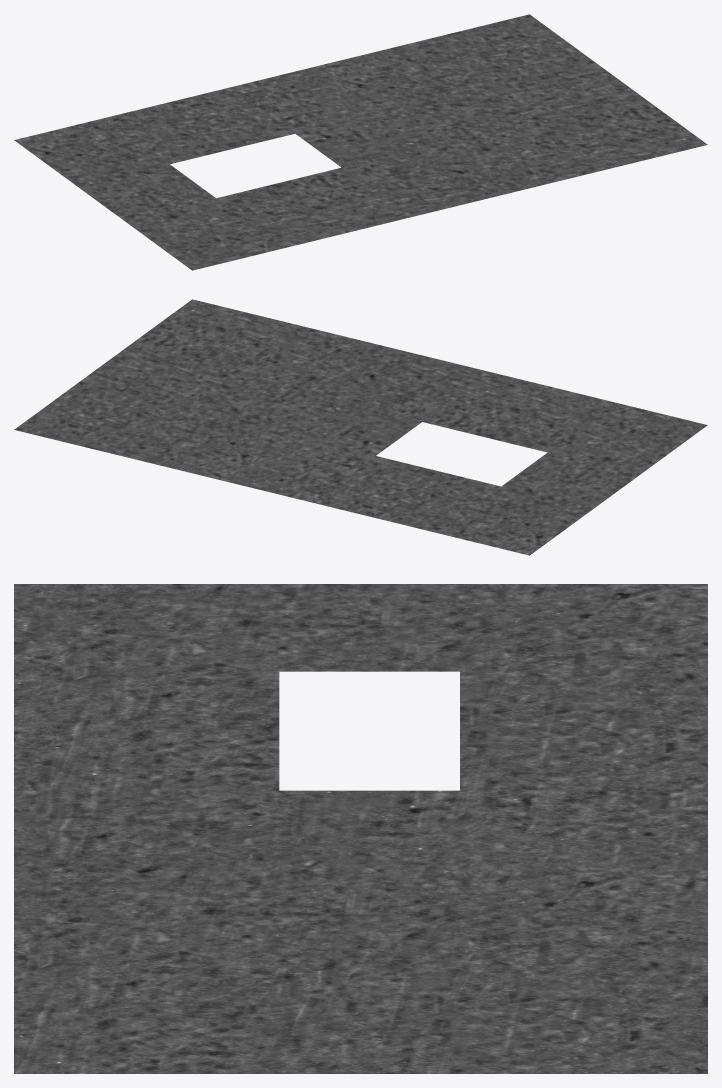
Rendered from for_yvon_180cm_biped.fbx.
3 views of the same model, one above another, from view 1: azimuth 30°, elevation 25°; view 2: azimuth 150°, elevation 25°; view 3: azimuth 270°, elevation 25° (orthographic). The views are drawn at different scales.
Visible parts, largest first — view 1: Plane003; view 2: Plane003; view 3: Plane003.
Boxes of the visible parts, x1,y1,x2,y2 form: Plane003: [14, 14, 707, 270]; Plane003: [14, 299, 707, 555]; Plane003: [14, 584, 707, 1073].
Size of the model in its own units: 328 by 0 by 197.
1 material, 1 textured.
